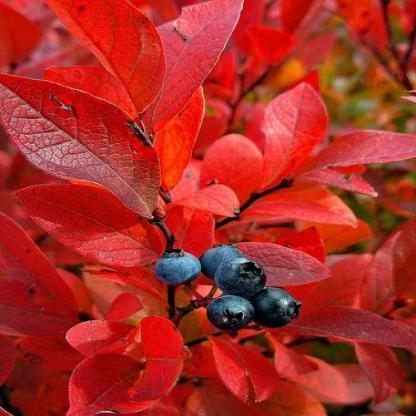Blueberry leaf: (1, 67, 175, 222), (43, 0, 173, 116), (4, 182, 164, 262), (141, 6, 235, 123), (256, 76, 328, 206), (203, 332, 282, 408), (58, 354, 151, 416), (303, 304, 415, 354)
